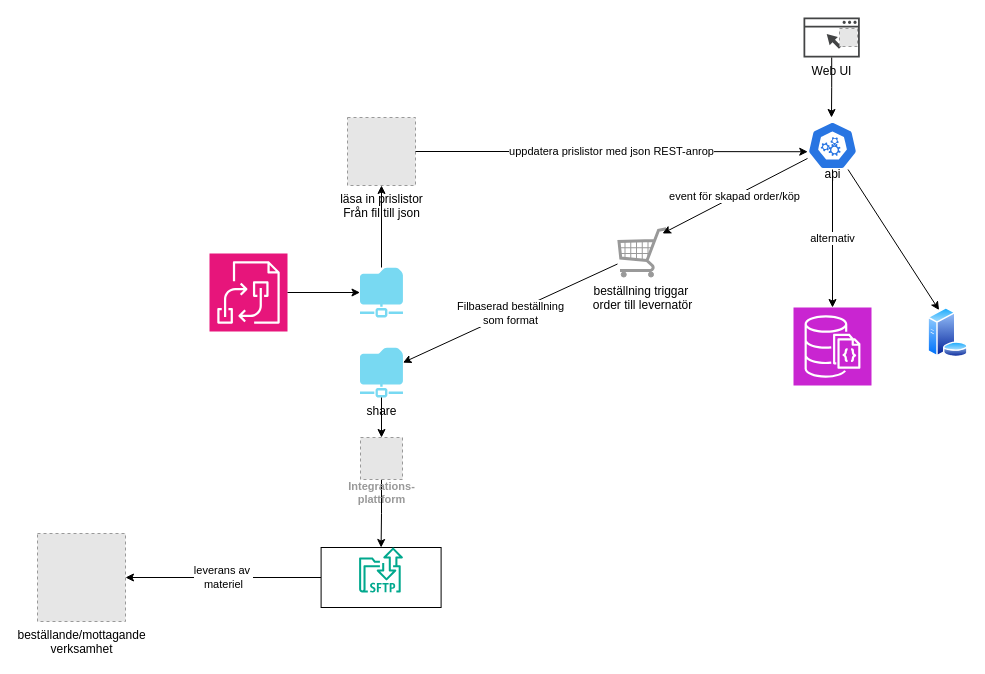
The diagram is 985 pixels wide and 674 high, and some of its shapes have lost their labels. Grey dashed boxes stand in for pictures. Each missing label, with the box of its shape:
documentDB (MongoDB): (792, 306, 872, 386)
levernatör av materiel: (320, 546, 441, 608)
raindance exporterar prislistor: (208, 252, 288, 332)
SQL: (927, 307, 968, 357)
